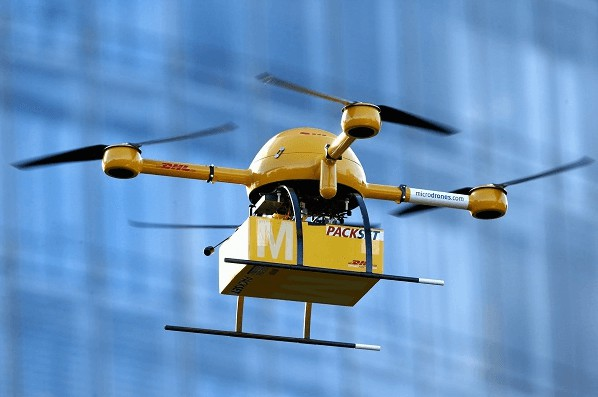maybay_khongnguoilai: (25, 72, 589, 330)
